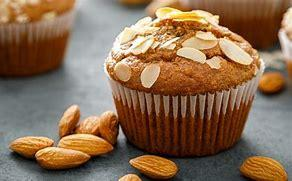muffin: (98, 0, 265, 163)
